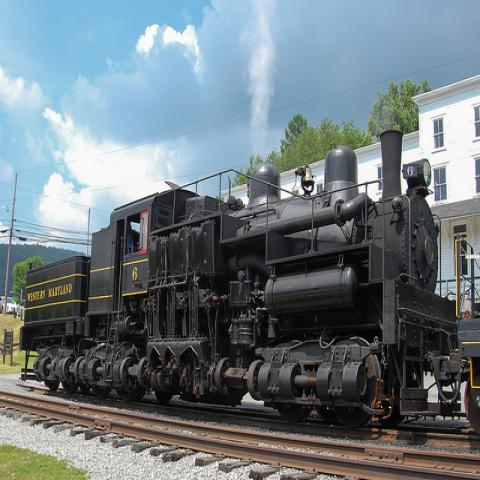car: (0, 296, 17, 314)
